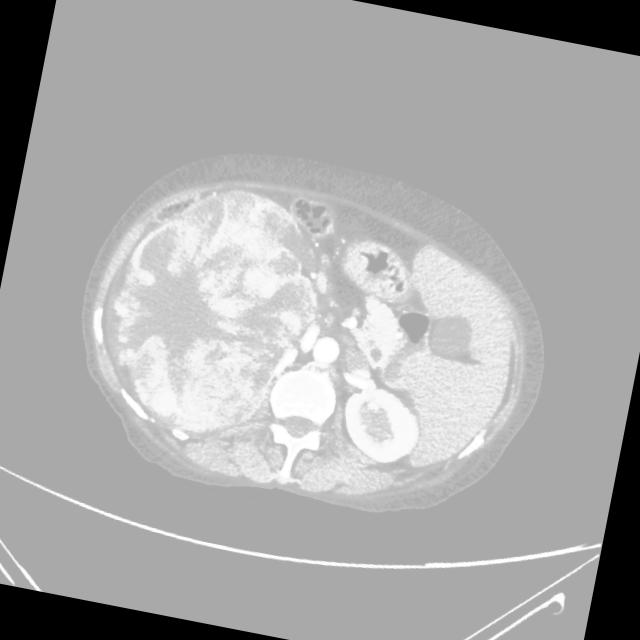TUMOR: (50, 185, 529, 506)
